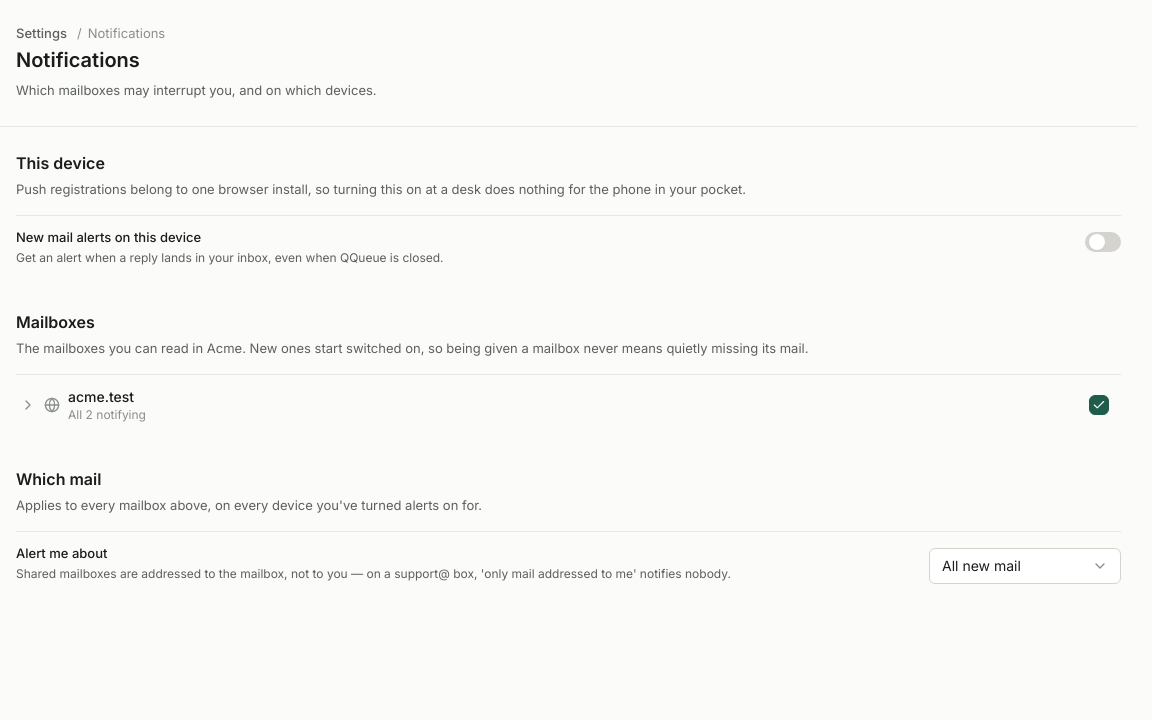
NotificationSettings › mailboxes › reveals the mailboxes on a domain when it is expanded
Click the button "acme.test All 2 notifying" at (101, 396), box [16,383,1065,427]
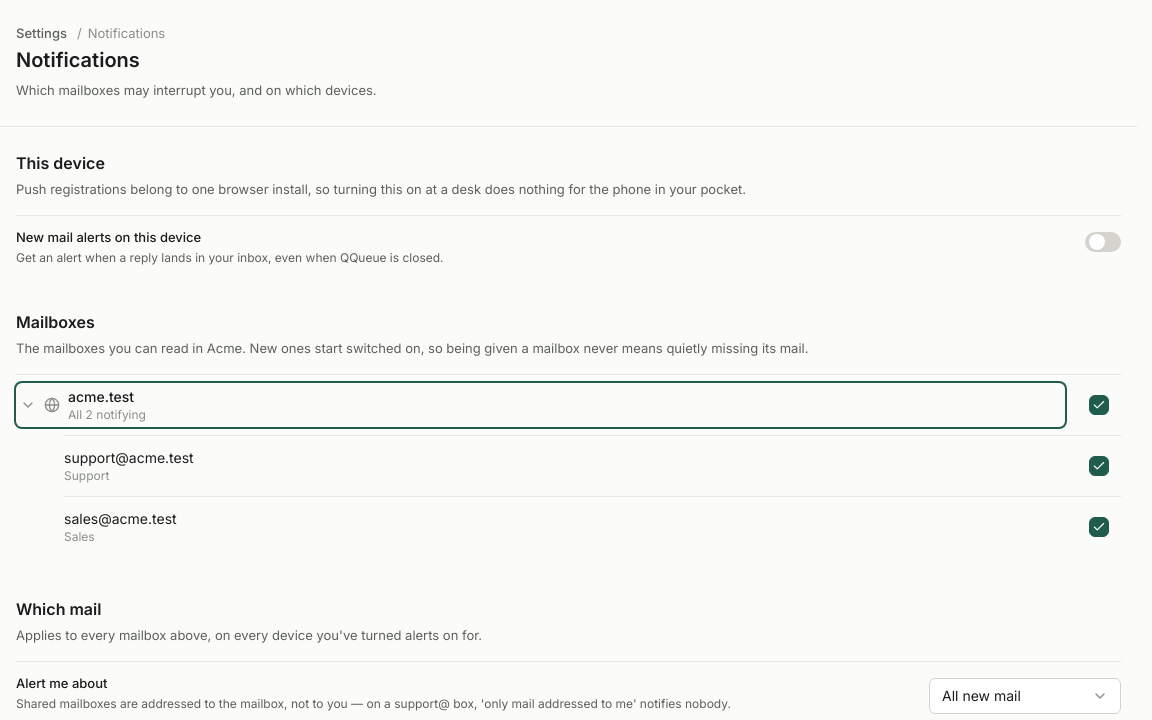
Check: the text "support@acme.test" is shown, box [64,449,194,466]
Check: the text "sales@acme.test" is shown, box [64,510,177,527]
